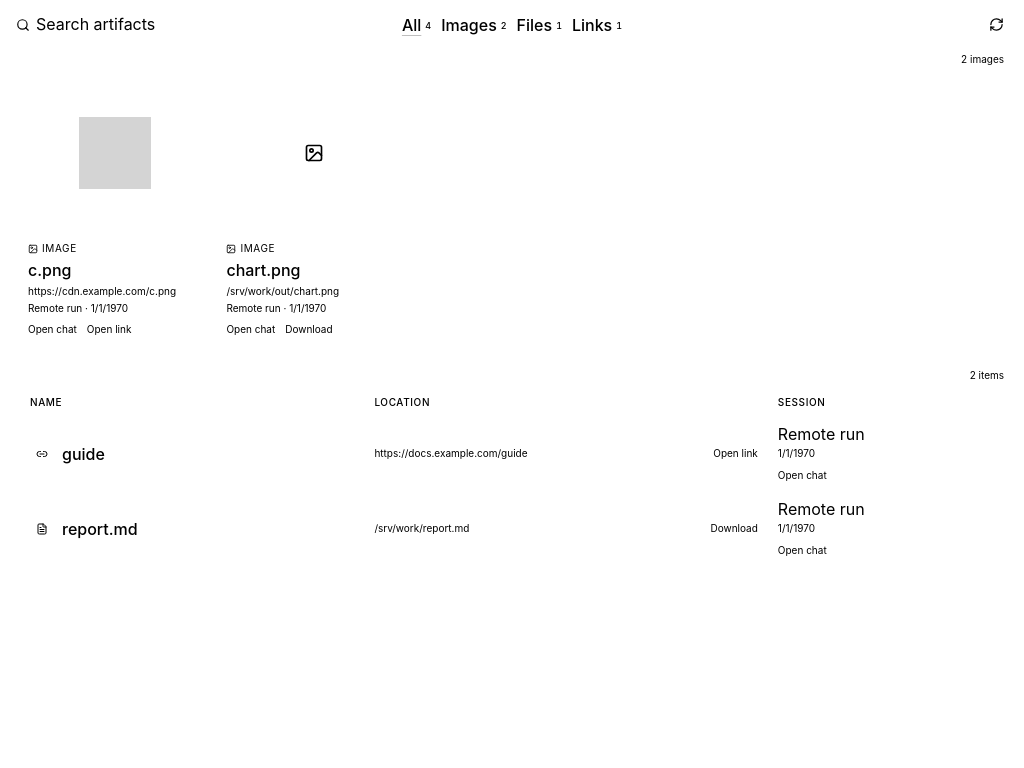
Test case: artifacts › a remote artifact download carries the originating profile
The image size is (1024, 768).
Click the button "Download" in the row of "/srv/work/report.md" at (734, 528), box x1=710 y1=521 x2=758 y2=536
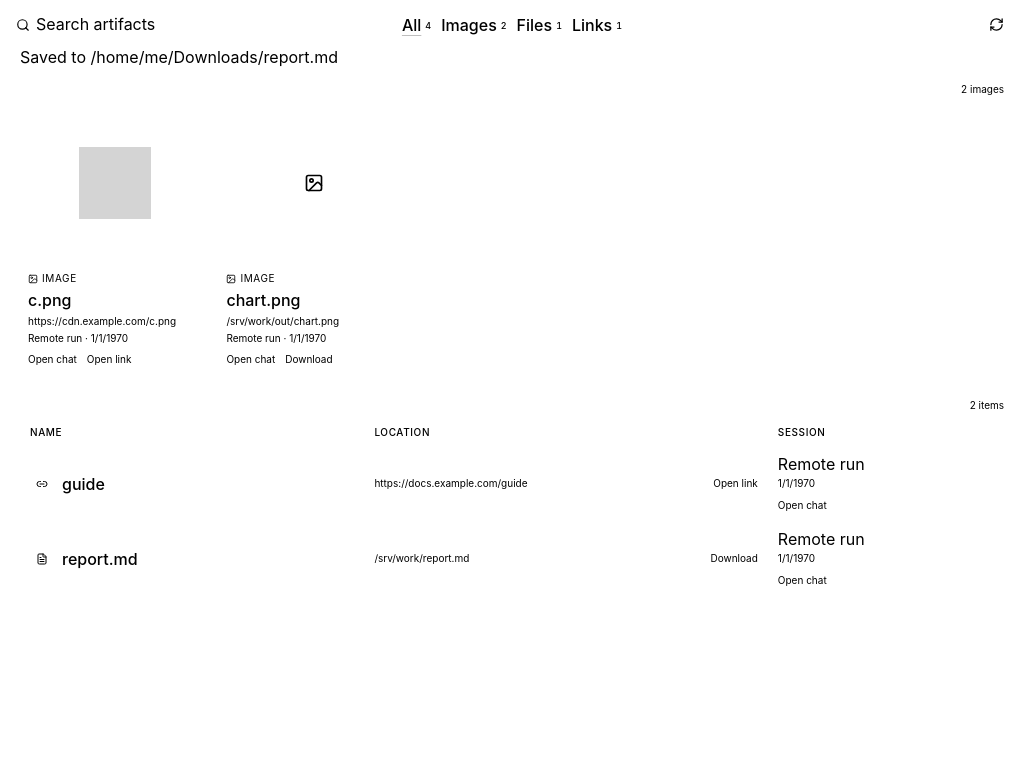
Result: the text "Saved to /home/me/Downloads/report.md" is shown at x1=20 y1=47 x2=338 y2=67
